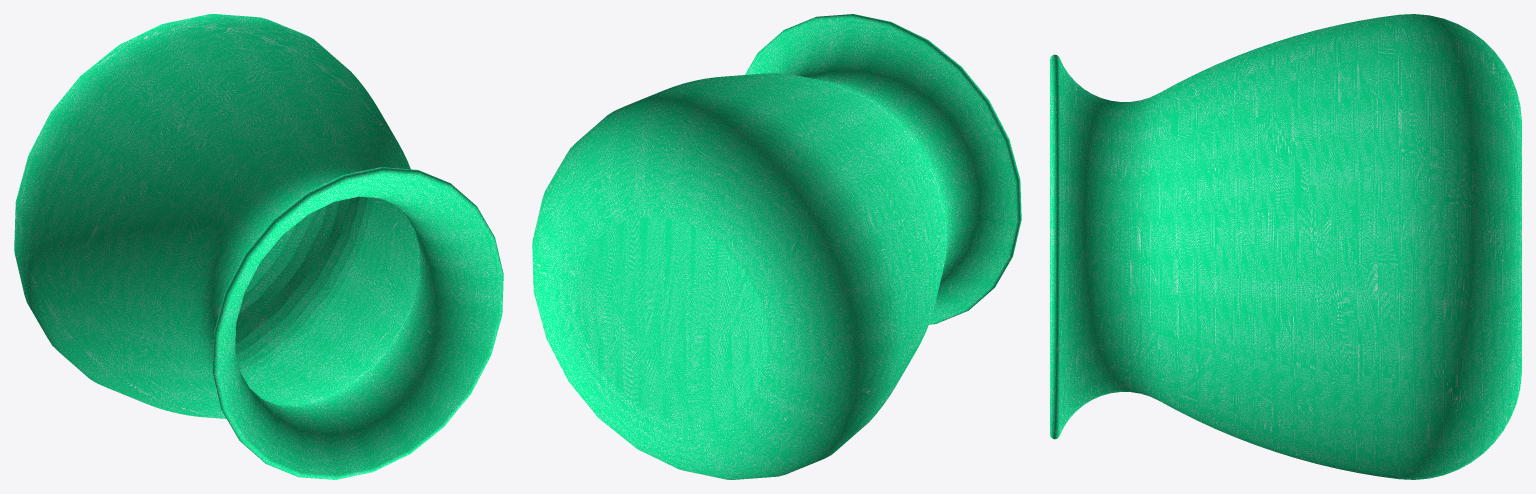
Rendered from model_scale.obj.
3 renders of one model, left to right at view 1: azimuth 30°, elevation 25°; view 2: azimuth 150°, elevation 25°; view 3: azimuth 270°, elevation 25°, orthographic. The views are drawn at different scales.
Parts seen in each view (by area): view 1: mesh1_mesh1-geometry; view 2: mesh1_mesh1-geometry; view 3: mesh1_mesh1-geometry.
Part boxes in pixels (box(x1,y1,x2,y2)): mesh1_mesh1-geometry: box(14, 14, 503, 479); mesh1_mesh1-geometry: box(532, 14, 1021, 479); mesh1_mesh1-geometry: box(1050, 14, 1521, 479).
Bounding box in the file's own units: 0.0869 × 0.0869 × 0.0881.
